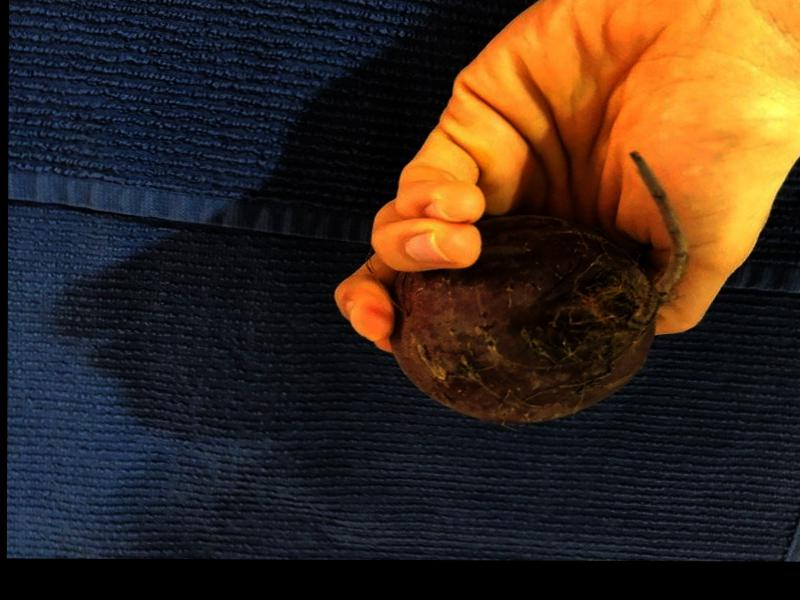Beet: (390, 146, 685, 421)
